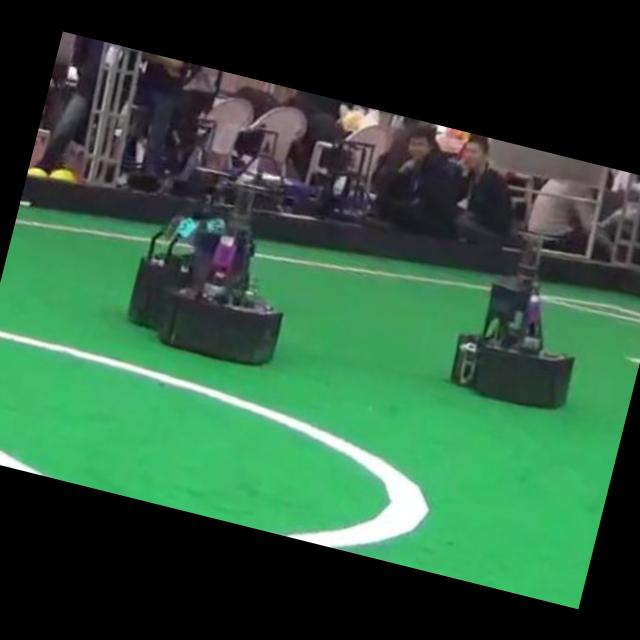robot: (450, 234, 574, 408), (159, 190, 282, 365), (127, 177, 228, 329)
